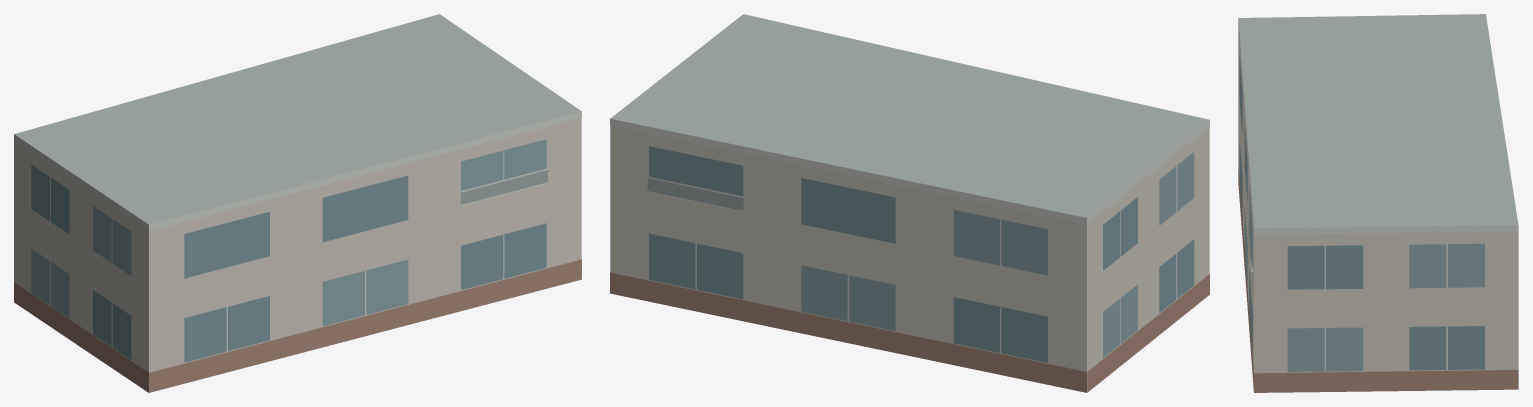
The model's file is survey-upis-32984137.glb.
3 renders of one model, left to right at view 1: azimuth 30°, elevation 25°; view 2: azimuth 150°, elevation 25°; view 3: azimuth 270°, elevation 25°, orthographic. The views are drawn at different scales.
Visible parts, largest first — view 1: survey-upis-32984137.tmp; view 2: survey-upis-32984137.tmp; view 3: survey-upis-32984137.tmp.
Part boxes in pixels (x1,y1,x2,y2): survey-upis-32984137.tmp: [14, 14, 581, 392]; survey-upis-32984137.tmp: [610, 14, 1209, 392]; survey-upis-32984137.tmp: [1238, 14, 1518, 392].
Bounding box in the file's own units: 17.06 × 6.1 × 9.42.
